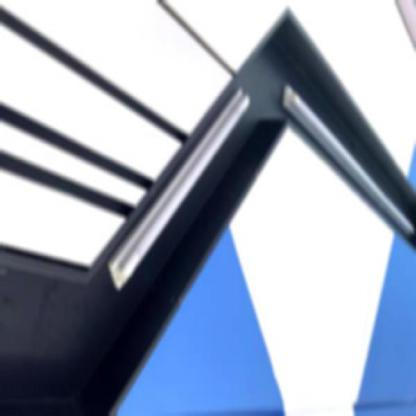light_off: (102, 69, 256, 293), (277, 66, 414, 267)
